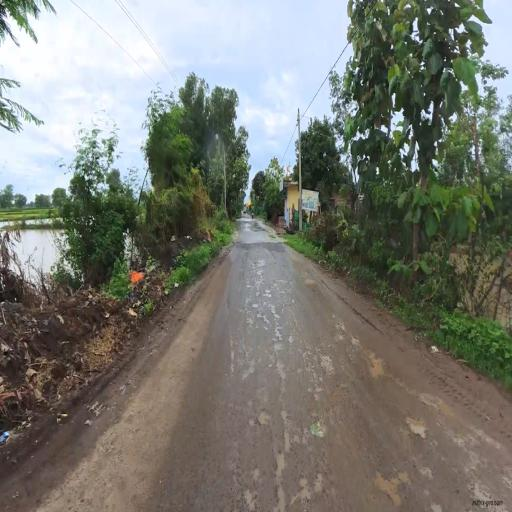ravelling: (233, 257, 325, 511)
